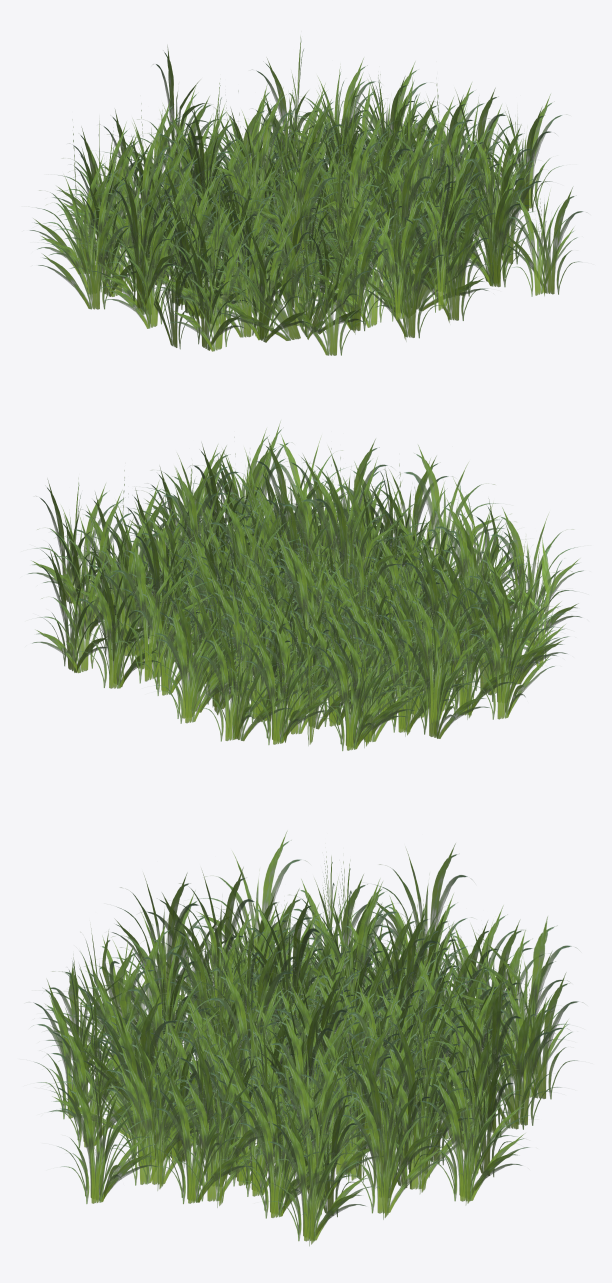
Rendered from Grass_01.glb.
The picture shows the model from 3 angles, top to bottom: view 1: azimuth 30°, elevation 25°; view 2: azimuth 150°, elevation 25°; view 3: azimuth 270°, elevation 25°; orthographic projection. The views are drawn at different scales.
Visible parts, largest first — view 1: unnamed; view 2: unnamed; view 3: unnamed.
Part boxes in pixels (x1=…): unnamed: x1=29, y1=36, x2=586, y2=355; unnamed: x1=28, y1=421, x2=583, y2=750; unnamed: x1=33, y1=831, x2=582, y2=1246.
Bounding box in the file's own units: 0.3633 × 0.1229 × 0.2942.
Materials: 1 (1 with a texture image).
